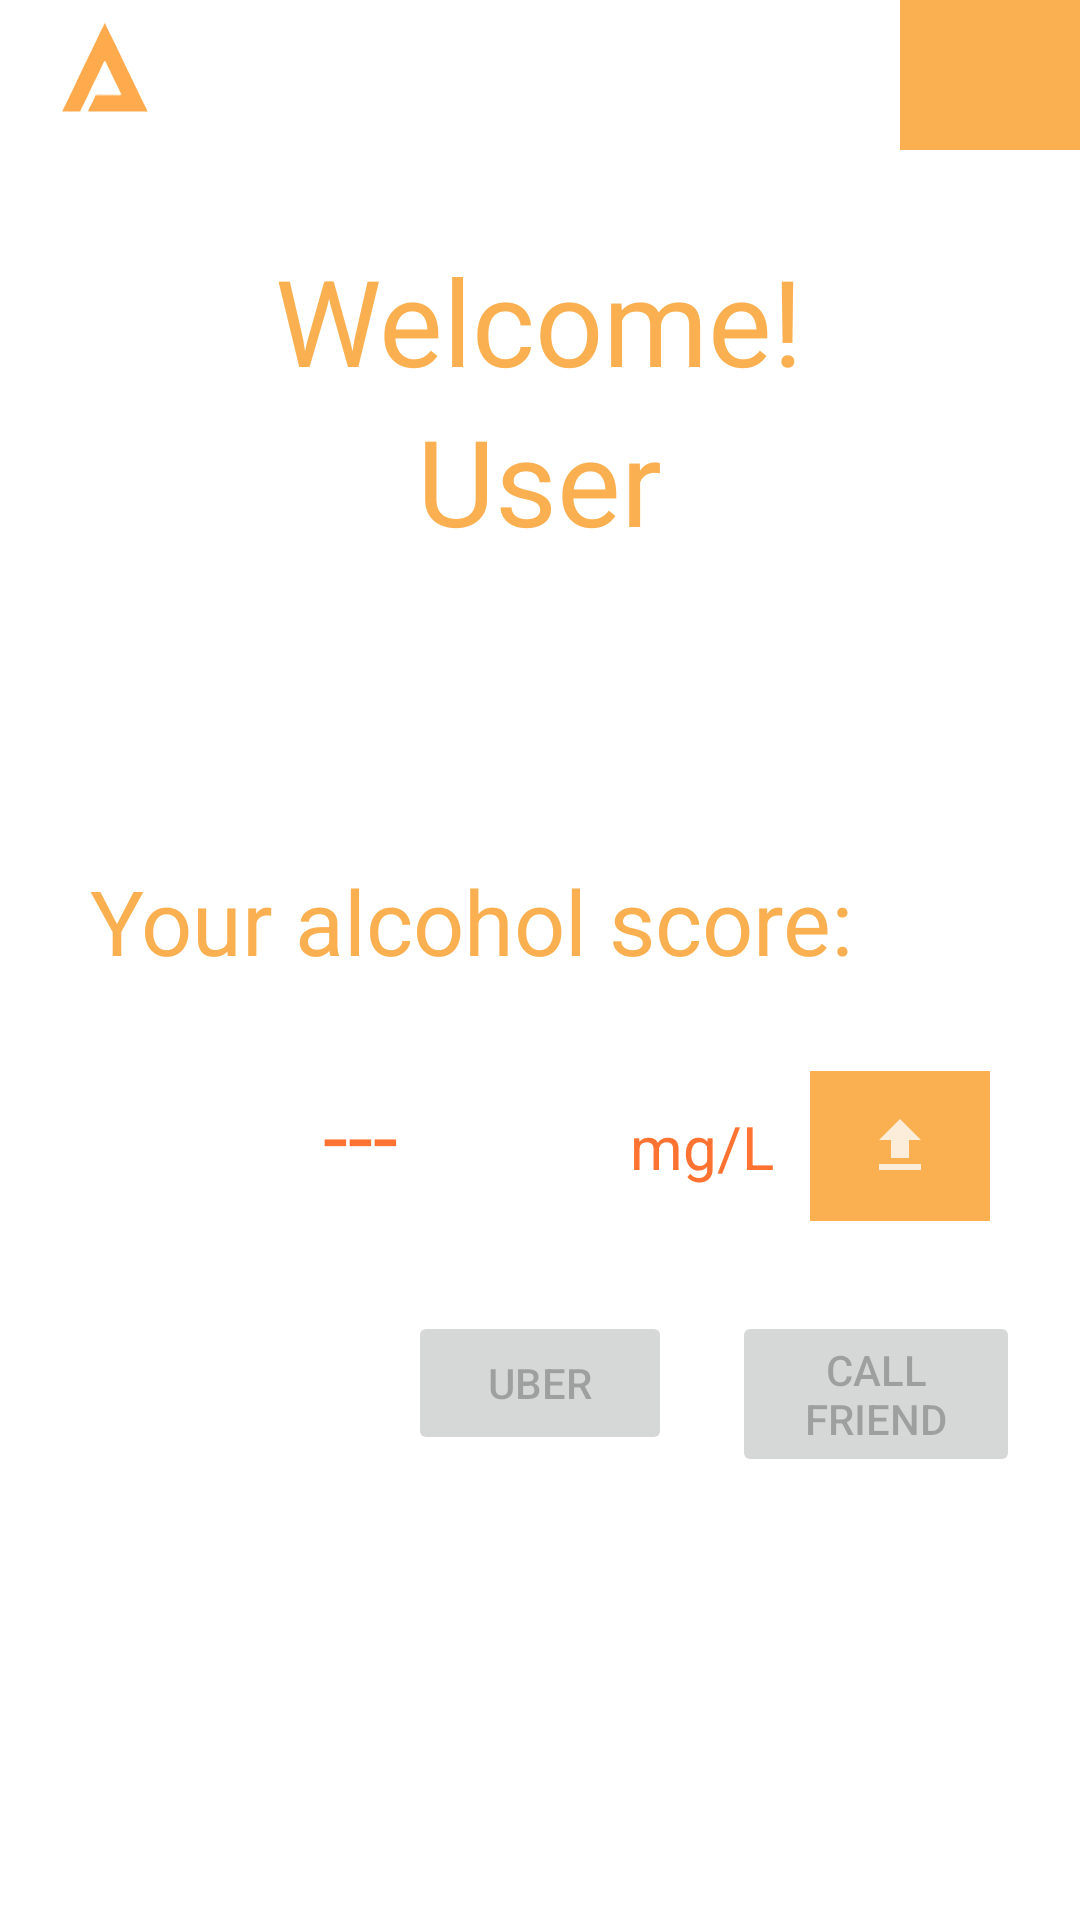

Icons on this 1080px x 1920px Android screen, each with the point to tap as [x,y]:
upload: [900,1146]
